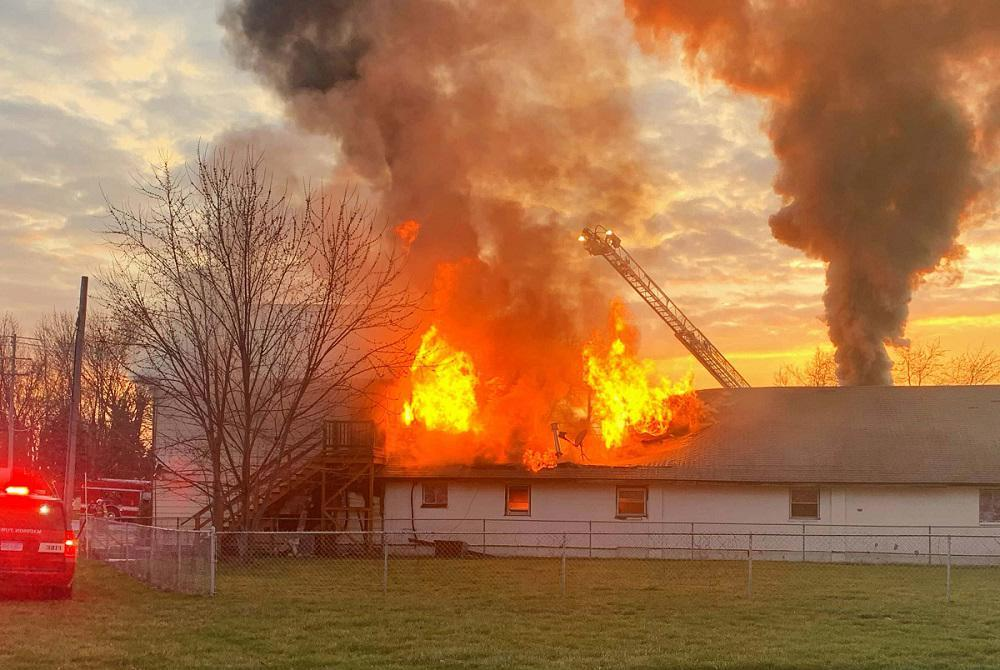Fire: (374, 257, 707, 471), (394, 219, 425, 256)
